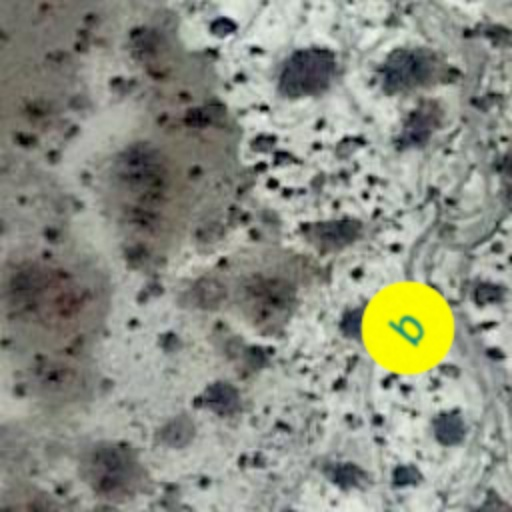circle: (344, 264, 472, 392)
